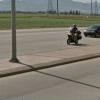Motorcycle: (57, 23, 84, 45)
